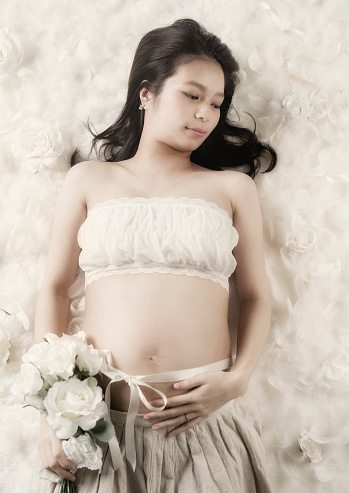deitado: (48, 35, 308, 493)
